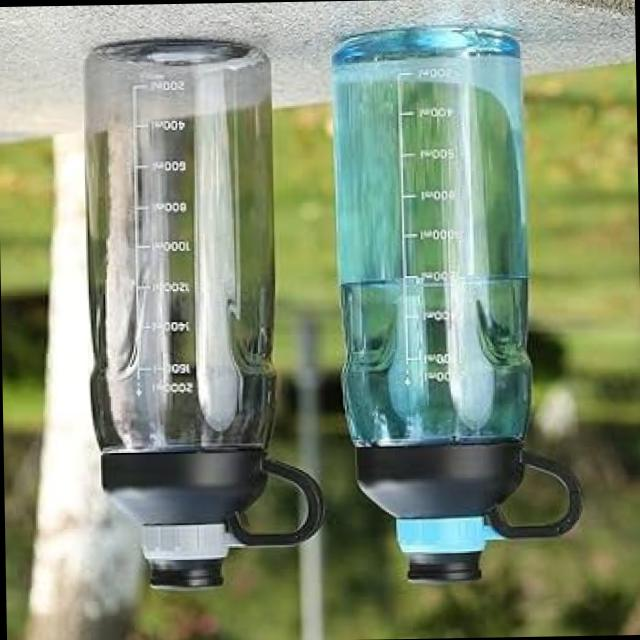plastic_bottle: (56, 20, 331, 629), (314, 2, 594, 592)
